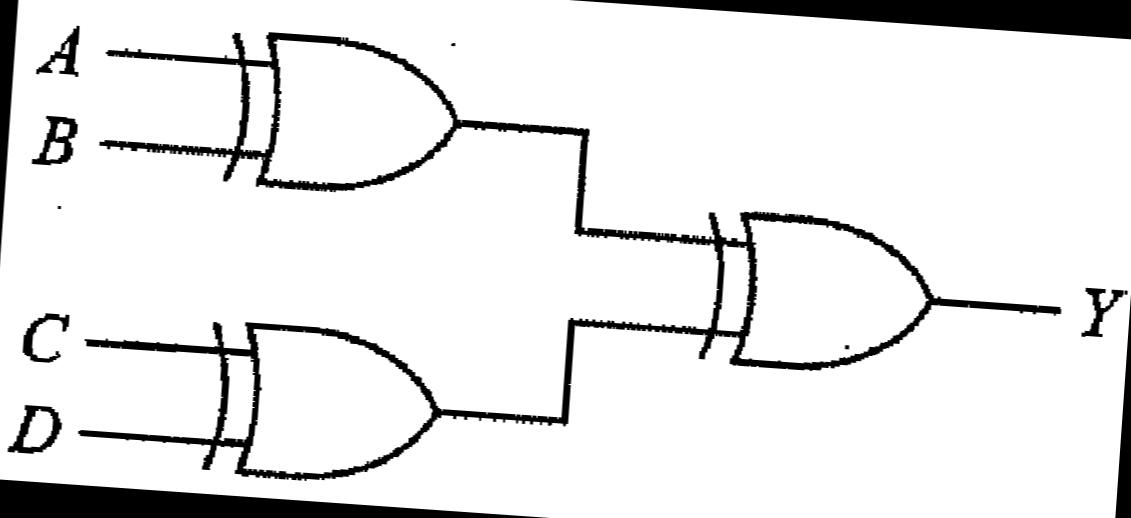xor: (683, 194, 953, 390), (204, 19, 476, 211), (186, 308, 456, 496)
